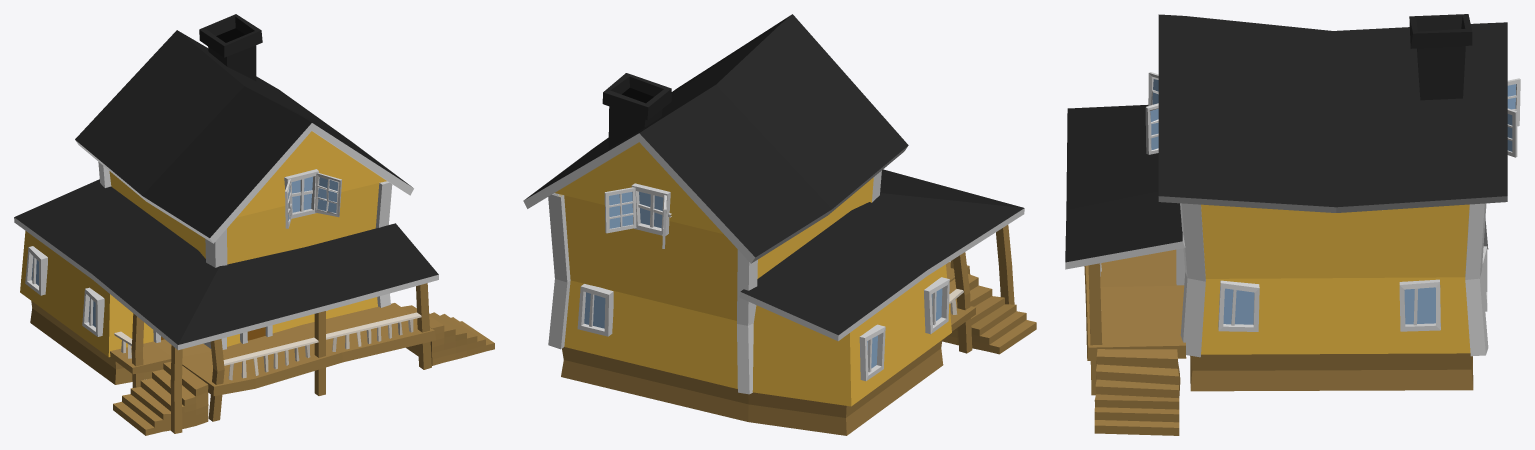
File: wonky yellow house.fbx
3 views of the same model, side by side, from view 1: azimuth 30°, elevation 25°; view 2: azimuth 150°, elevation 25°; view 3: azimuth 270°, elevation 25° (orthographic). The views are drawn at different scales.
Parts seen in each view (by area): view 1: wonky yellowhouse_LOD0; view 2: wonky yellowhouse_LOD0; view 3: wonky yellowhouse_LOD0.
Boxes of the visible parts, x1,y1,x2,y2 form: wonky yellowhouse_LOD0: (14, 14, 494, 435); wonky yellowhouse_LOD0: (523, 14, 1036, 435); wonky yellowhouse_LOD0: (1065, 14, 1520, 435).
Size of what is drawn, in the model's own units: 16.18 by 11.55 by 14.16.
